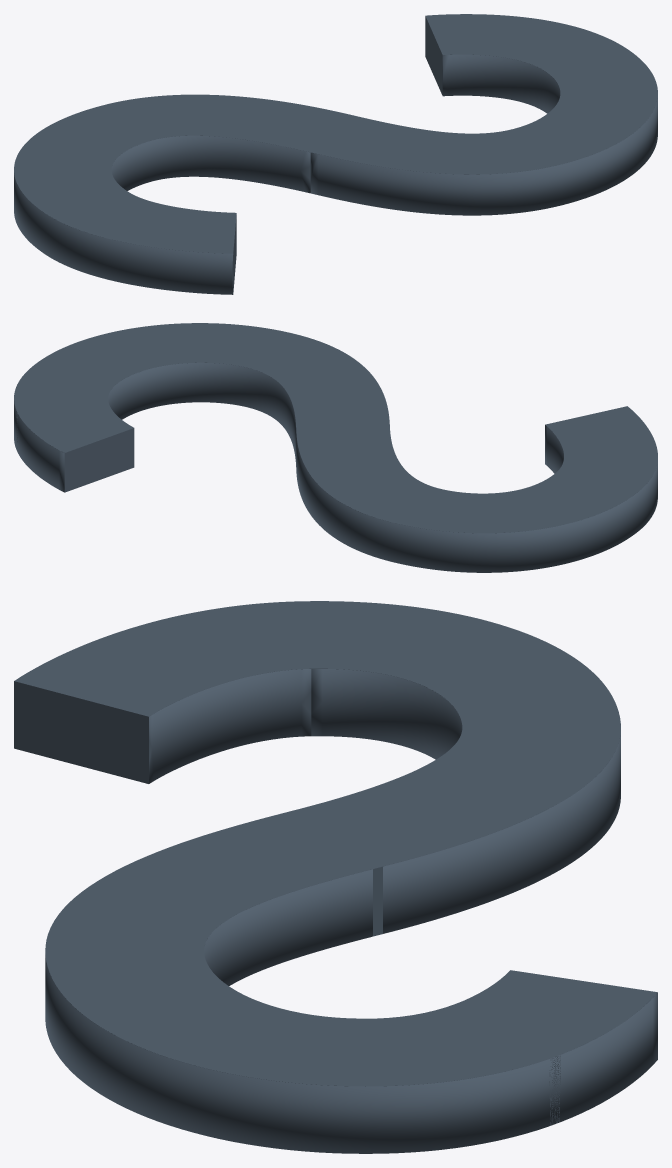
Rendered from fr_hipy_42.obj.
3 renders of one model, top to bottom at view 1: azimuth 30°, elevation 25°; view 2: azimuth 150°, elevation 25°; view 3: azimuth 270°, elevation 25°, orthographic. The views are drawn at different scales.
Bounding box in the file's own units: 0.0108 × 0.000701 × 0.00606.
